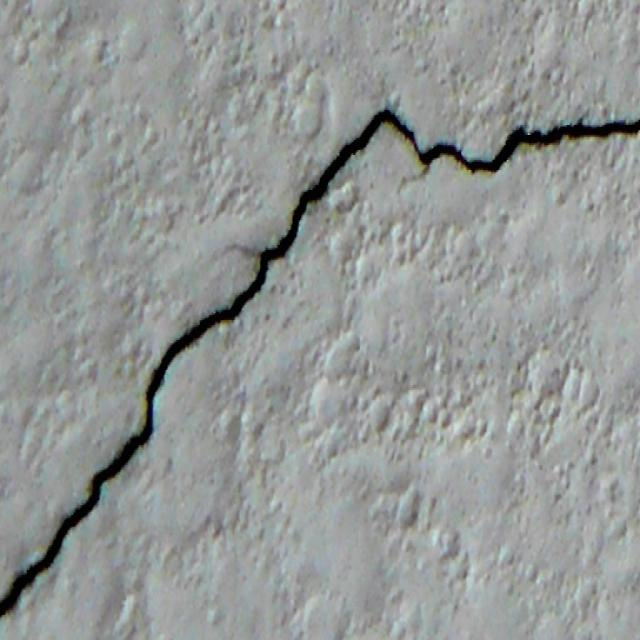crack: (0, 188, 332, 617), (298, 107, 639, 185)
